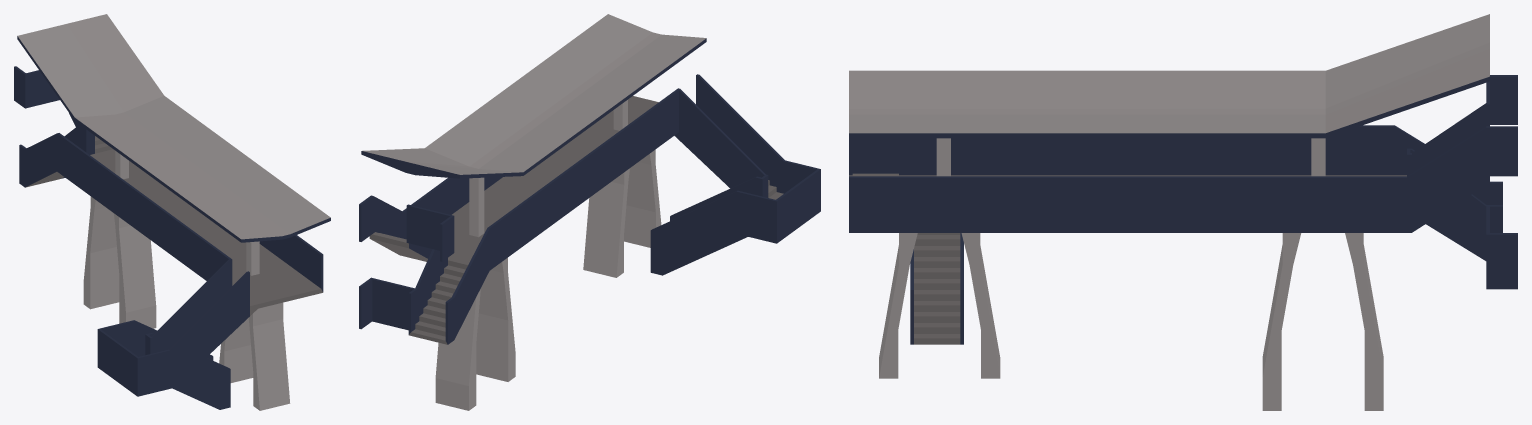
Rendered from trainstation-oberpass-start.glb.
3 renders of one model, left to right at view 1: azimuth 30°, elevation 25°; view 2: azimuth 150°, elevation 25°; view 3: azimuth 270°, elevation 25°, orthographic. The views are drawn at different scales.
Parts seen in each view (by area): view 1: trainstation-oberpass-start; view 2: trainstation-oberpass-start; view 3: trainstation-oberpass-start.
Part boxes in pixels (left/top/right/bottom): trainstation-oberpass-start: left=14, top=14, right=330, bottom=410; trainstation-oberpass-start: left=359, top=14, right=820, bottom=410; trainstation-oberpass-start: left=849, top=14, right=1517, bottom=410.
Size of the model in its own units: 8.95 by 11 by 18.75.
1 material, 1 textured.
